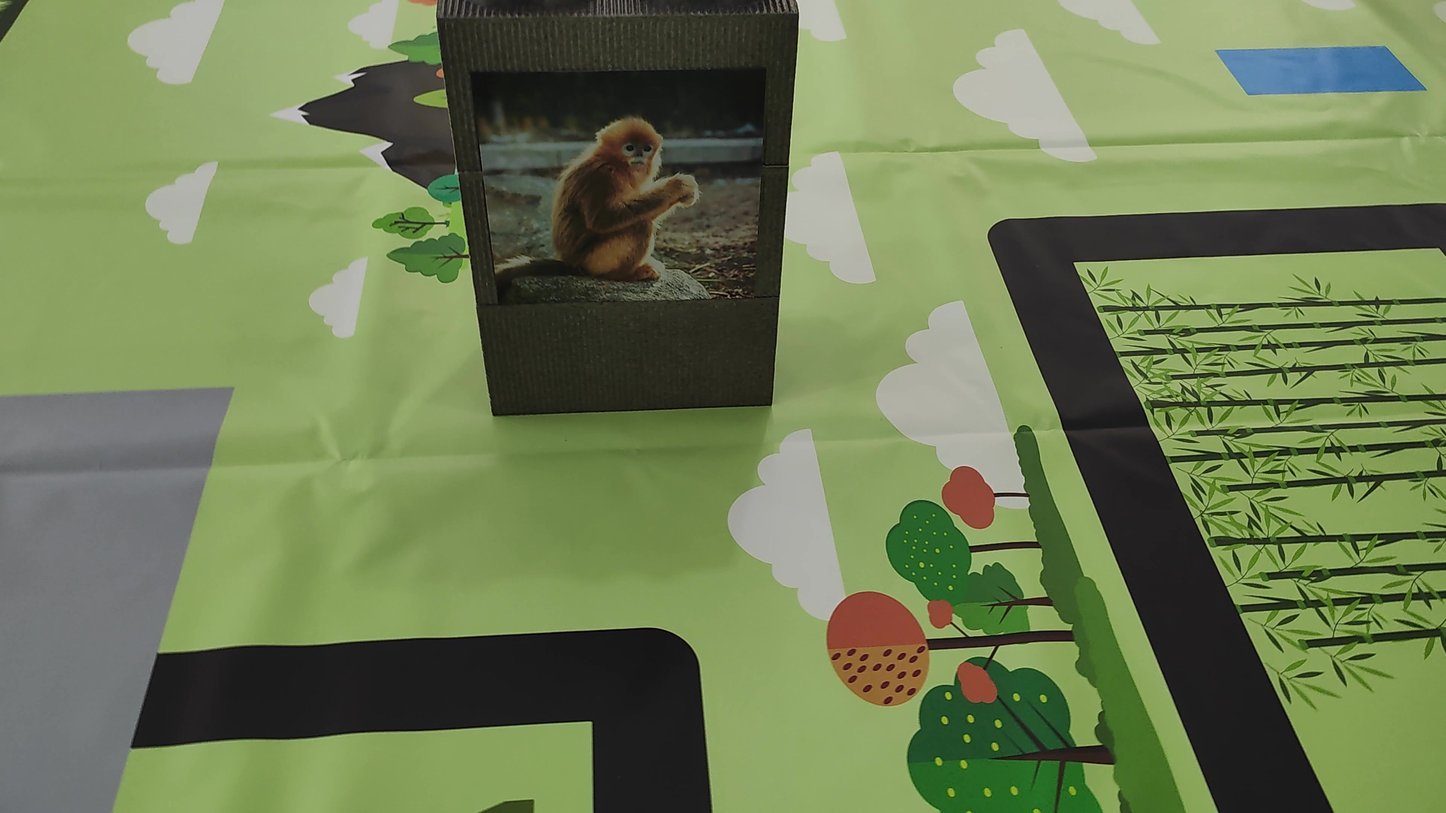monkey: (493, 88, 718, 308)
